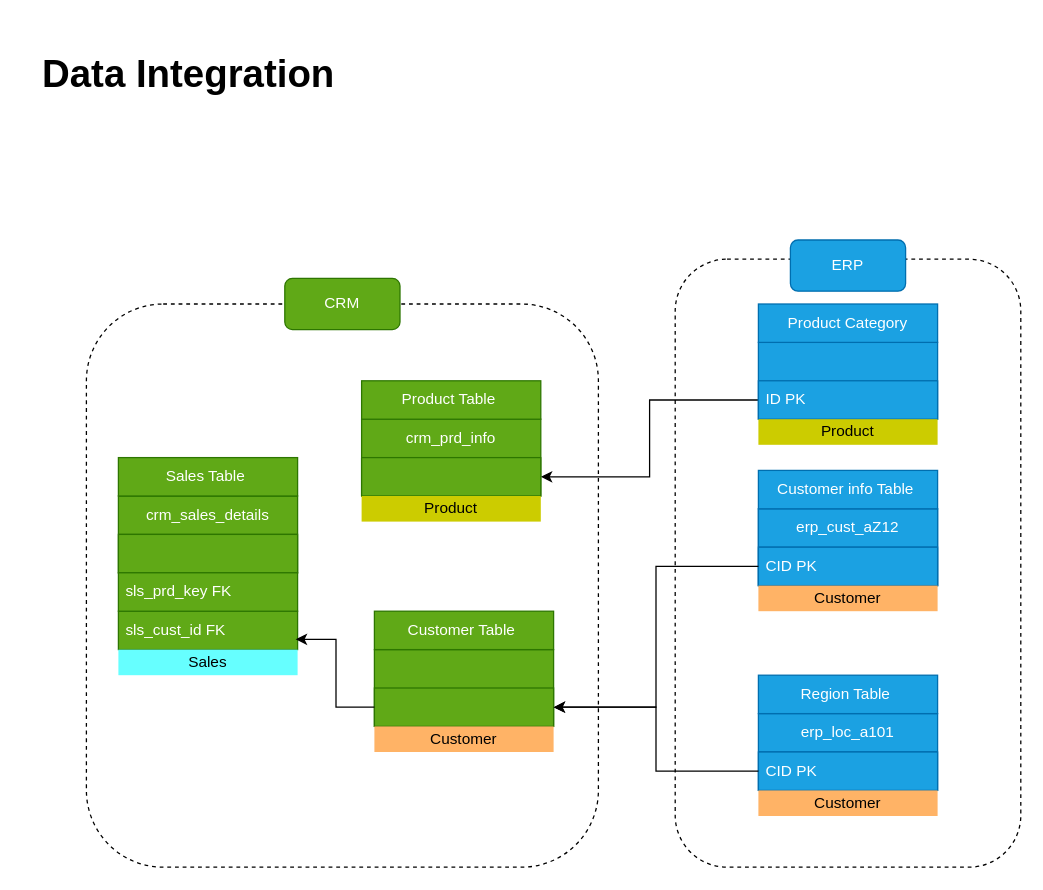
The diagram is 1043 pixels wide and 890 high, and some of its shapes have lost their labels. Here are the shapes that lost their labels. From the top down, the box of each, then its label:
(757, 341, 938, 419): erp_px_cat_g1v2
(360, 456, 541, 496): cat_id PK
(117, 533, 298, 573): sls_ord_num PK
(373, 648, 554, 726): crm_cust_info
(373, 687, 554, 726): cst_id PK
